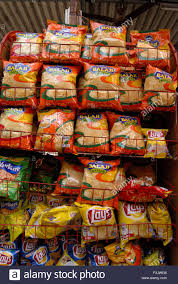kurkure: (1, 161, 22, 174)
plastic: (13, 25, 161, 259)
wrapper: (75, 151, 129, 207), (78, 56, 123, 116)
